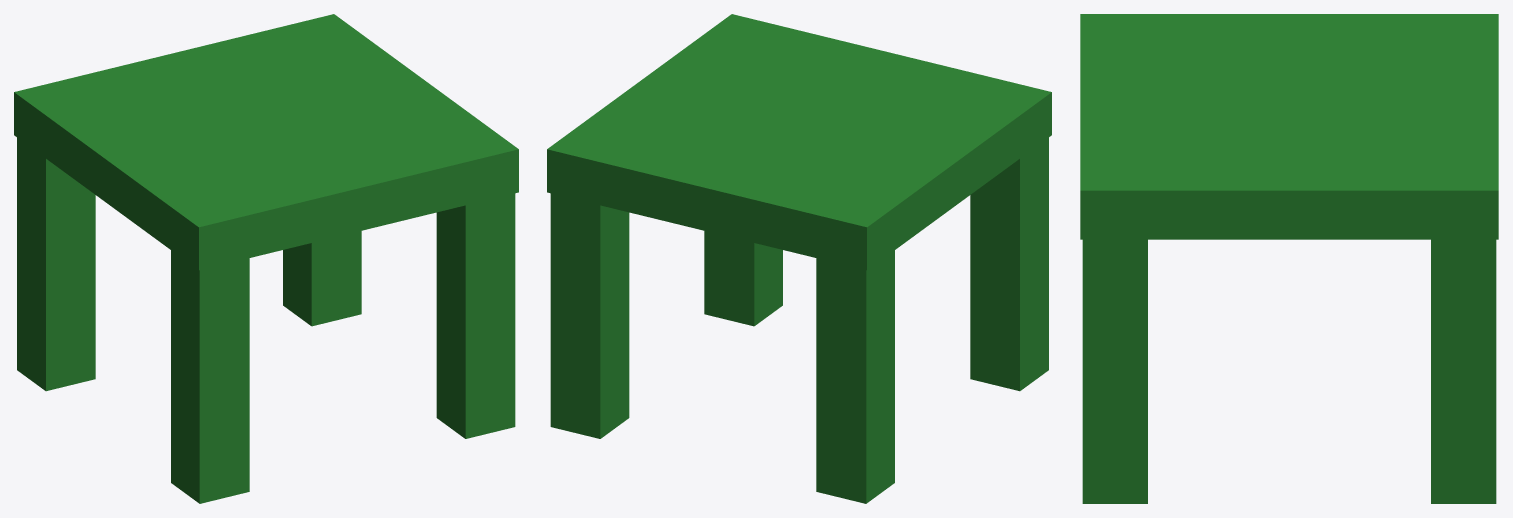
The model's file is Table.fbx.
The picture shows the model from 3 angles, left to right: view 1: azimuth 30°, elevation 25°; view 2: azimuth 150°, elevation 25°; view 3: azimuth 270°, elevation 25°; orthographic projection. The views are drawn at different scales.
Visible parts, largest first — view 1: Table, Legs, Legs.002; view 2: Table, Legs, Legs.002; view 3: Table, Legs.002.
Part boxes in pixels (<box>): Table: <box>14,14,518,270</box>; Legs: <box>17,137,249,503</box>; Legs.002: <box>283,193,515,438</box>; Table: <box>547,14,1051,270</box>; Legs: <box>816,137,1048,503</box>; Legs.002: <box>550,193,782,438</box>; Table: <box>1080,14,1498,239</box>; Legs.002: <box>1082,239,1496,503</box>.
Bounding box in the file's own units: 108 × 89.24 × 108.
